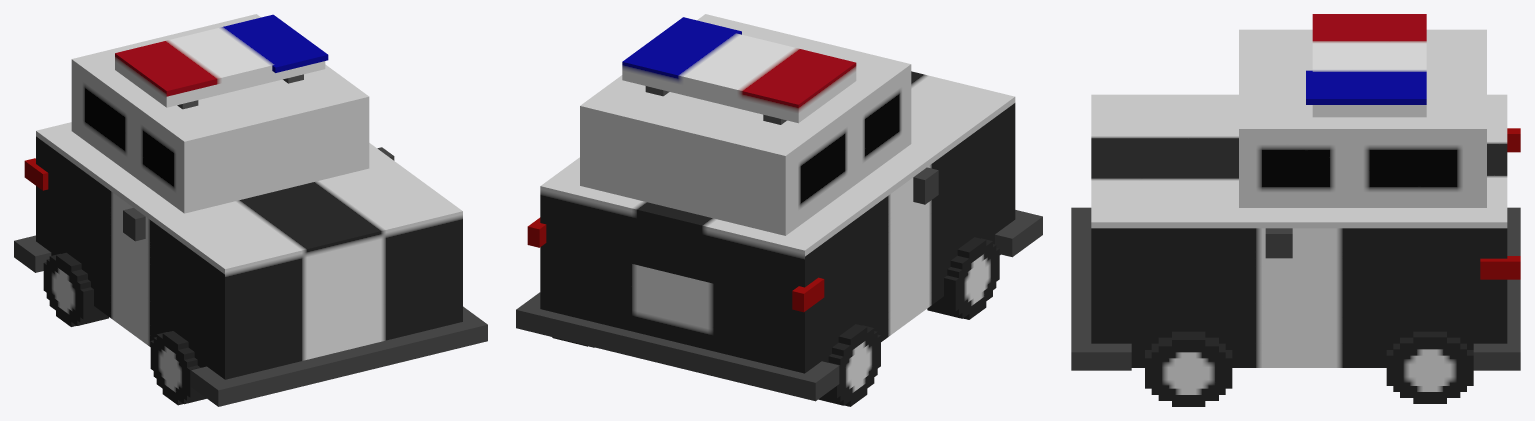
Rendered from car_police.fbx.
3 views of the same model, side by side, from view 1: azimuth 30°, elevation 25°; view 2: azimuth 150°, elevation 25°; view 3: azimuth 270°, elevation 25° (orthographic). The views are drawn at different scales.
Visible parts, largest first — view 1: body, back_left_wheel, back_right_wheel; view 2: body, back_right_wheel, back_left_wheel; view 3: body, front_right_wheel, front_left_wheel.
Boxes of the visible parts, x1,y1,x2,y2 form: body: (14, 14, 487, 406); back_left_wheel: (43, 252, 108, 326); back_right_wheel: (150, 331, 206, 405); body: (516, 14, 1042, 401); back_right_wheel: (927, 237, 999, 319); back_left_wheel: (818, 324, 880, 406); body: (1071, 14, 1520, 370); front_right_wheel: (1145, 331, 1232, 406); front_left_wheel: (1386, 331, 1473, 403).
Bounding box in the file's own units: 51 × 46 × 67.
